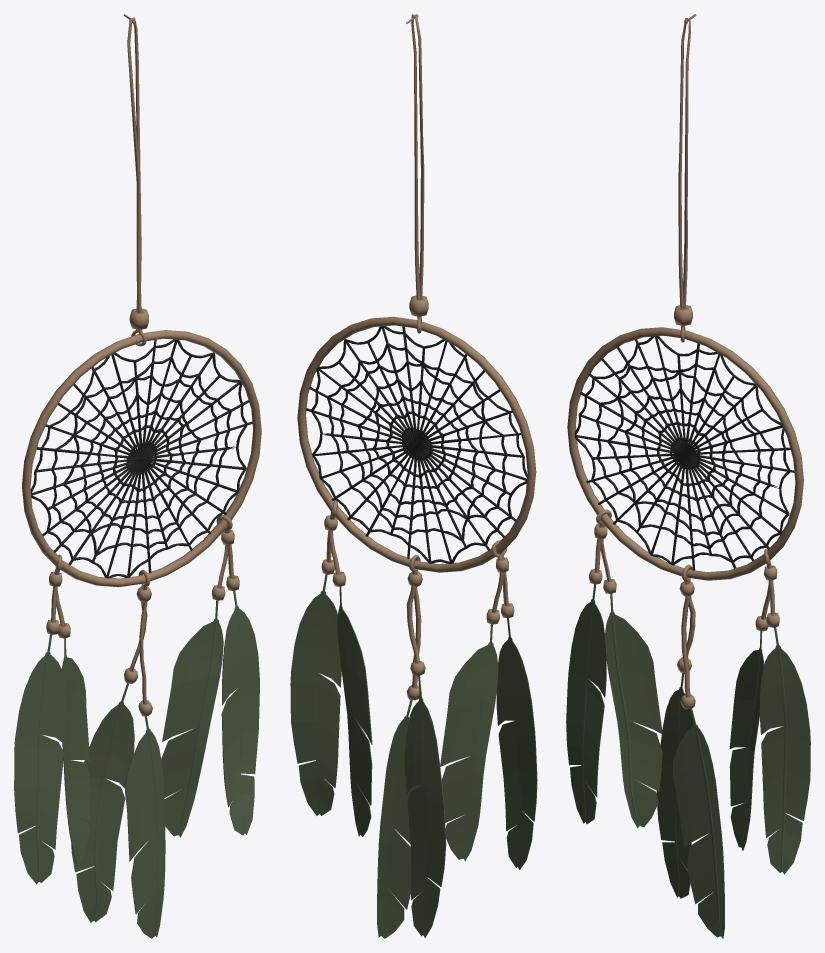
The model's file is PortalDreamCatcher.fbx.
3 renders of one model, left to right at view 1: azimuth 30°, elevation 25°; view 2: azimuth 150°, elevation 25°; view 3: azimuth 330°, elevation 25°, orthographic.
Visible parts, largest first — view 1: Feathers, Web, DreamCatcher; view 2: Feathers, Web, DreamCatcher; view 3: Feathers, Web, DreamCatcher.
Boxes of the visible parts, x1,y1,x2,y2 form: Feathers: (14,591,259,938); Web: (30,339,252,578); DreamCatcher: (22,14,261,716); Feathers: (290,574,537,938); Web: (305,326,527,563); DreamCatcher: (297,14,536,700); Feathers: (566,584,810,938); Web: (574,336,794,570); DreamCatcher: (567,14,803,709).
Size of the model in its own units: 0.577 by 2.08 by 0.1078.
